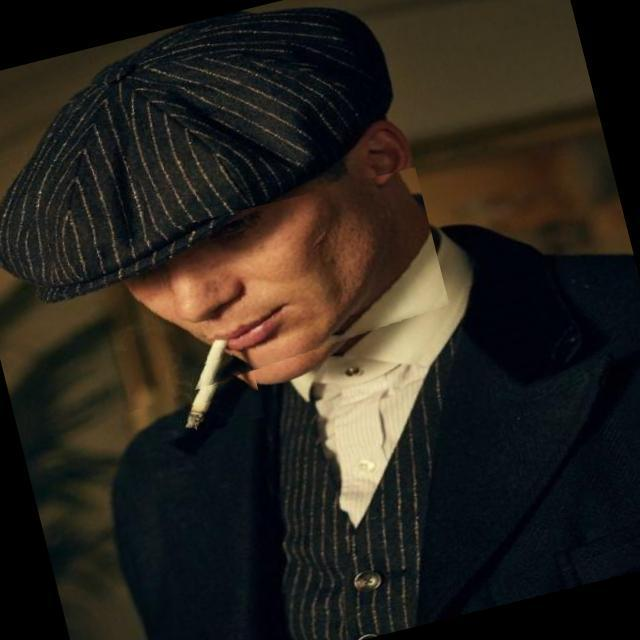cigarette: (142, 334, 265, 442)
